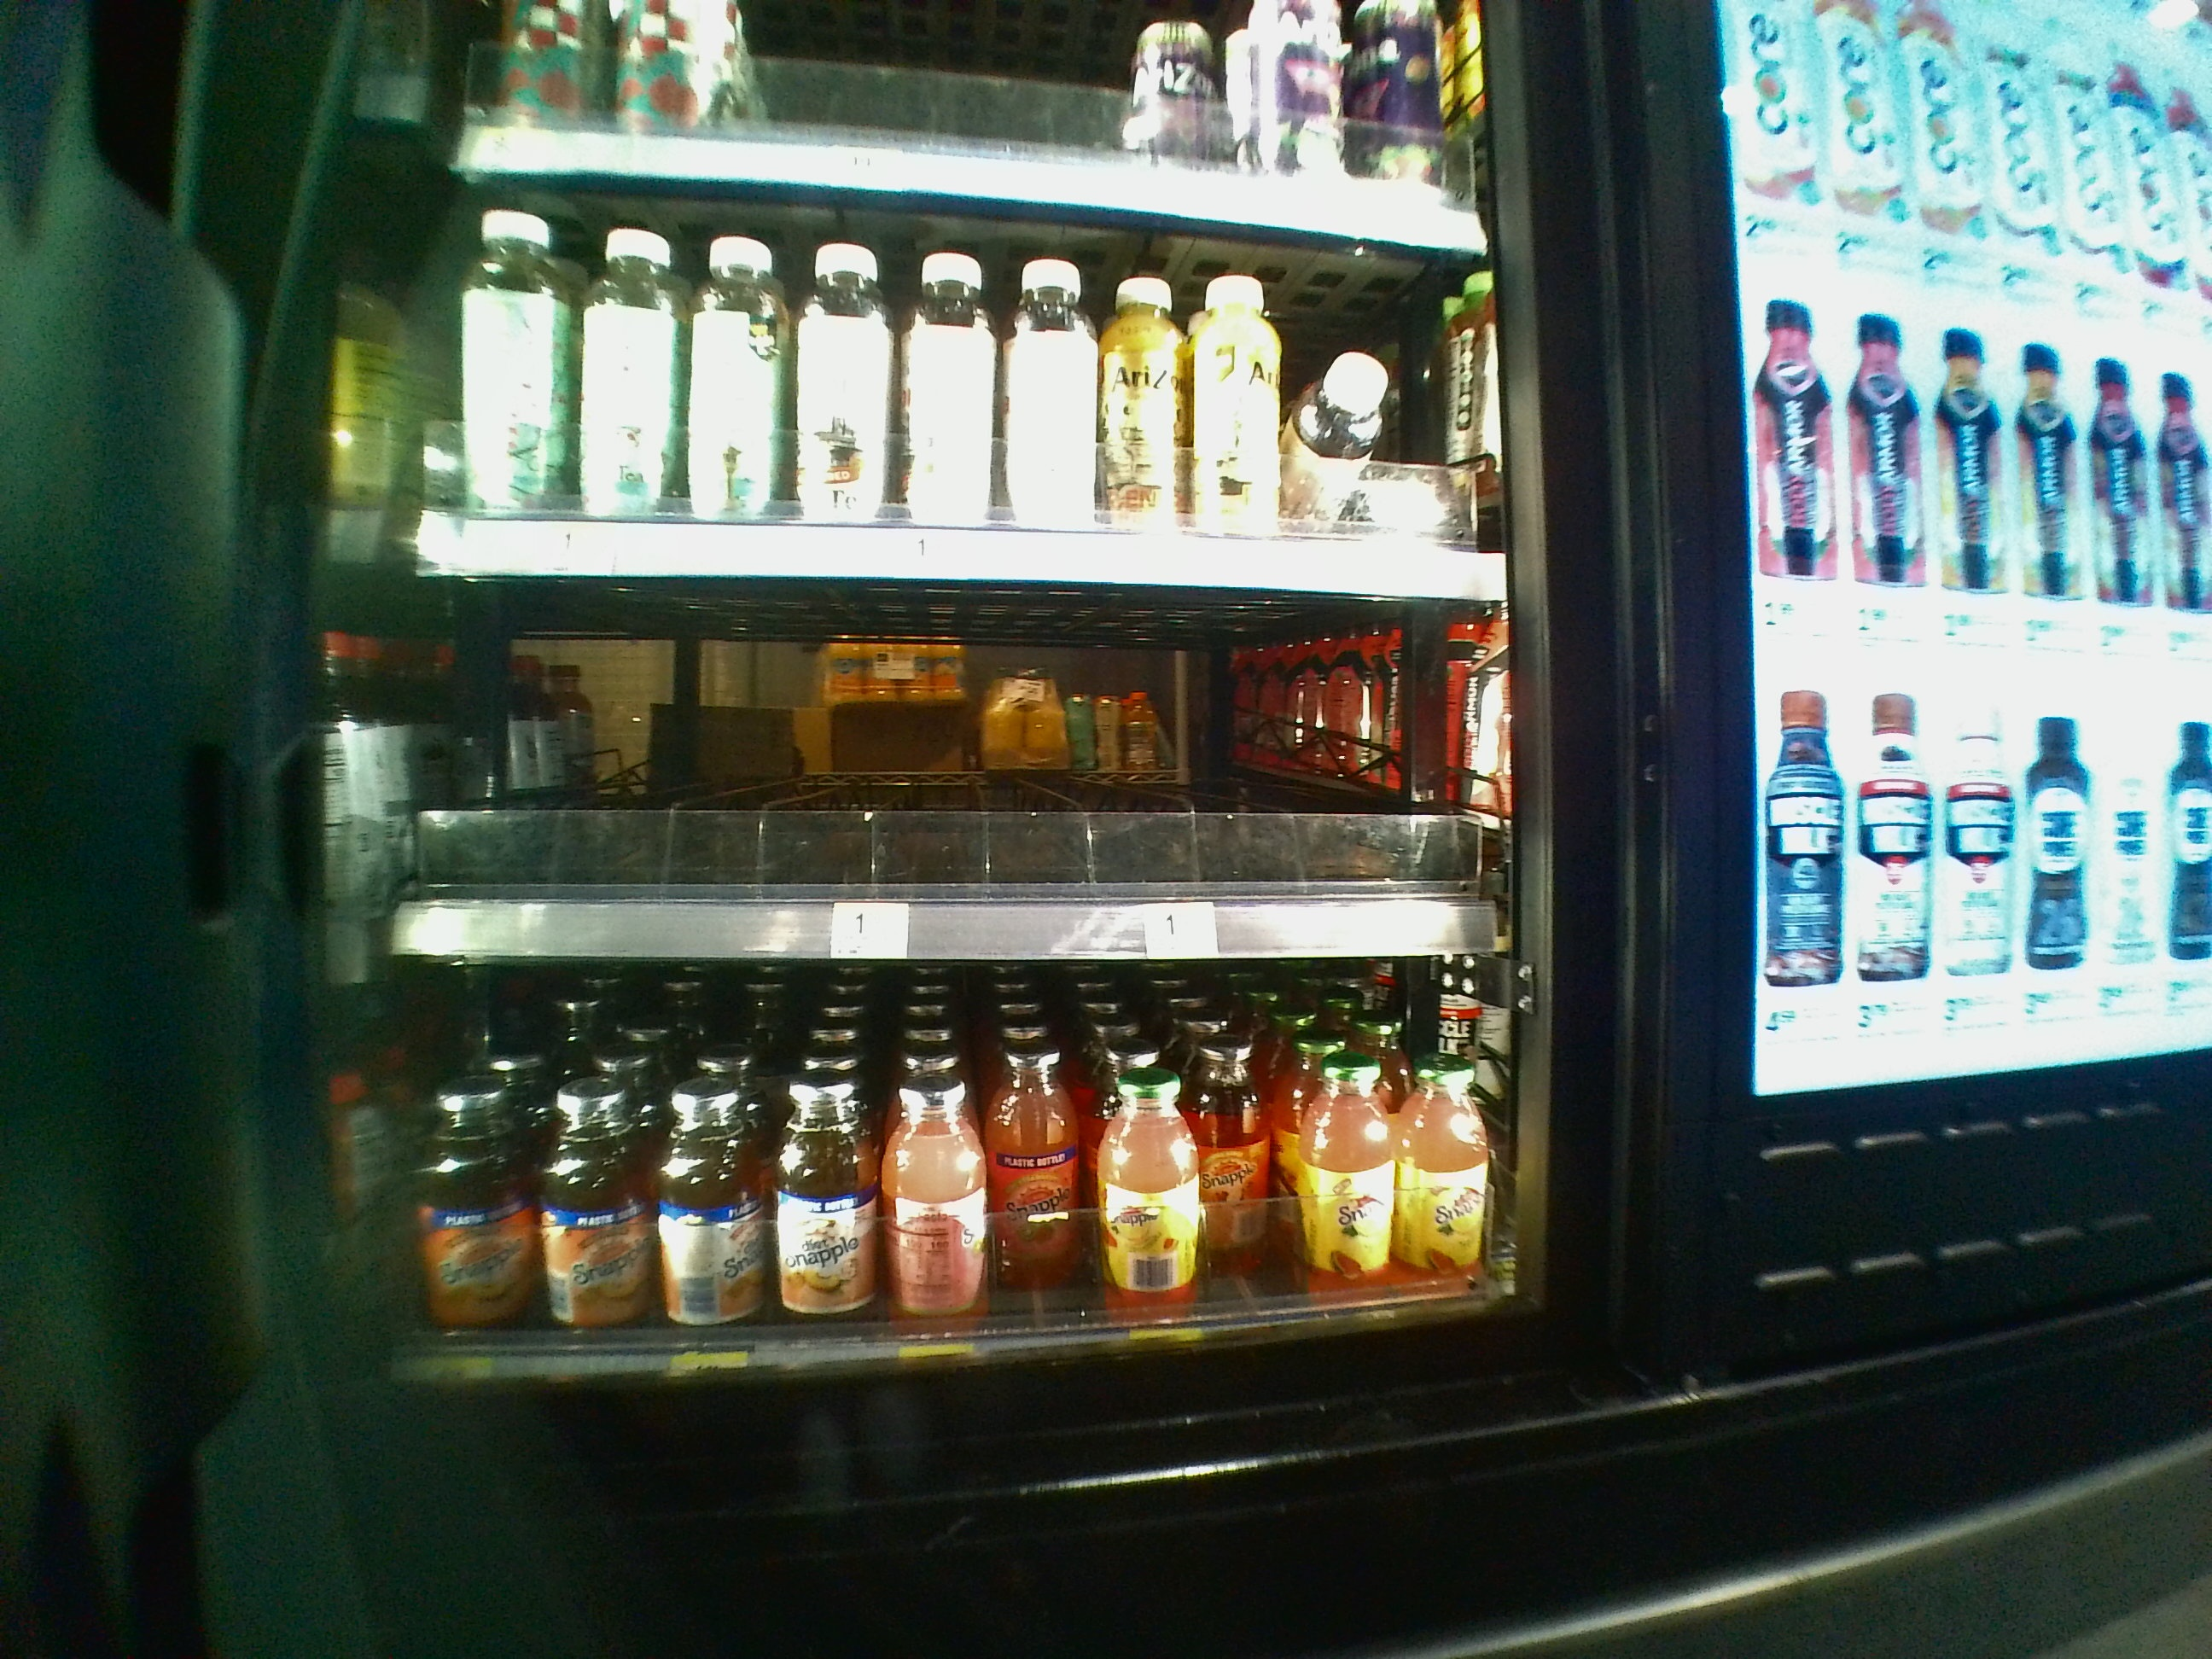shelf: (388, 978, 1515, 1392), (416, 169, 1501, 579), (388, 591, 1508, 962)
